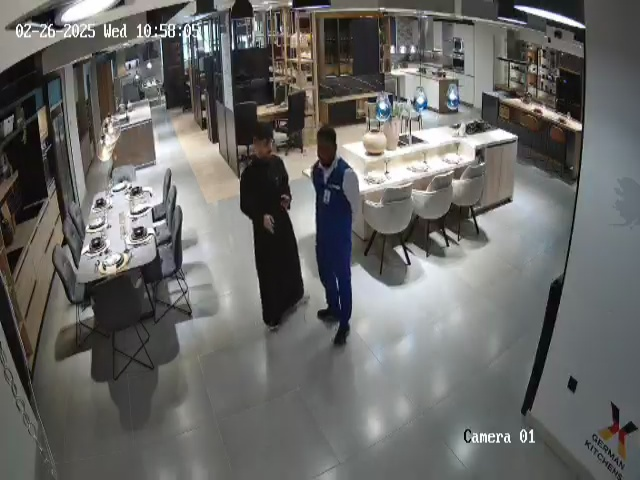employee: (308, 127, 362, 347)
male: (239, 122, 307, 332)
